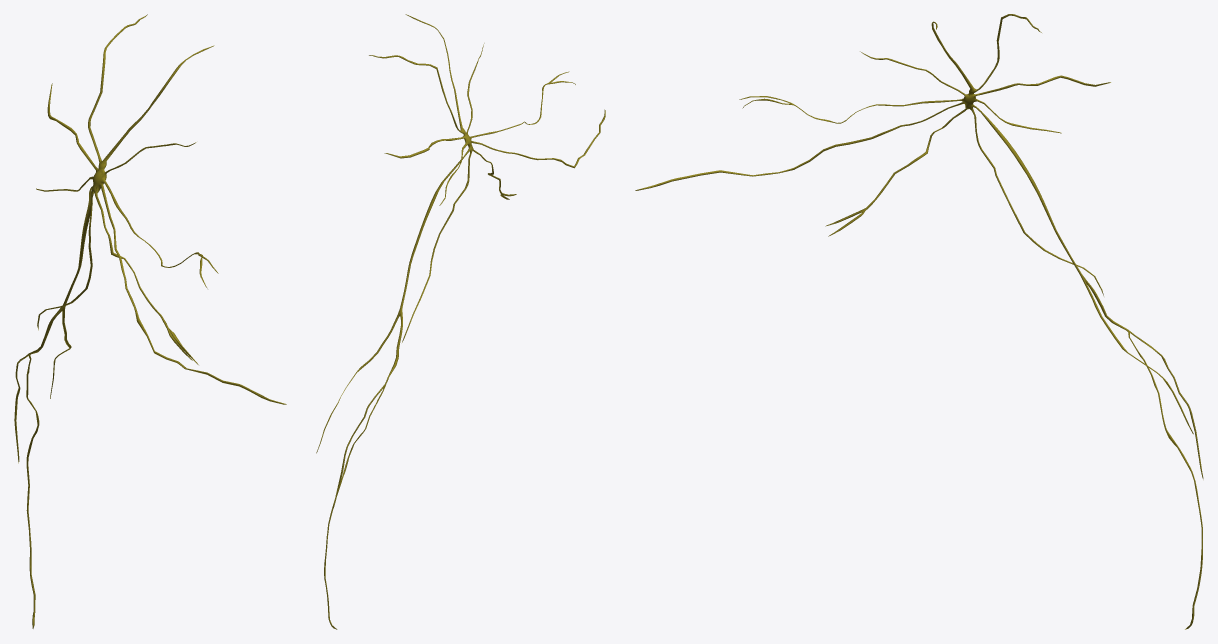
The model's file is R nodi lymphoidei subiliaci.fbx.
3 renders of one model, left to right at view 1: azimuth 30°, elevation 25°; view 2: azimuth 150°, elevation 25°; view 3: azimuth 270°, elevation 25°, orthographic. The views are drawn at different scales.
Visible parts, largest first — view 1: R nodi lymphoidei subiliaci, R nodi lymphoidei subiliaci low; view 2: R nodi lymphoidei subiliaci, R nodi lymphoidei subiliaci low; view 3: R nodi lymphoidei subiliaci, R nodi lymphoidei subiliaci low.
Boxes of the visible parts, x1,y1,x2,y2 form: R nodi lymphoidei subiliaci: (14, 14, 286, 628); R nodi lymphoidei subiliaci low: (14, 16, 285, 627); R nodi lymphoidei subiliaci: (316, 14, 605, 629); R nodi lymphoidei subiliaci low: (319, 22, 605, 628); R nodi lymphoidei subiliaci: (638, 14, 1203, 629); R nodi lymphoidei subiliaci low: (635, 14, 1202, 628).
Bounding box in the file's own units: 16.2 × 74.66 × 61.91.
